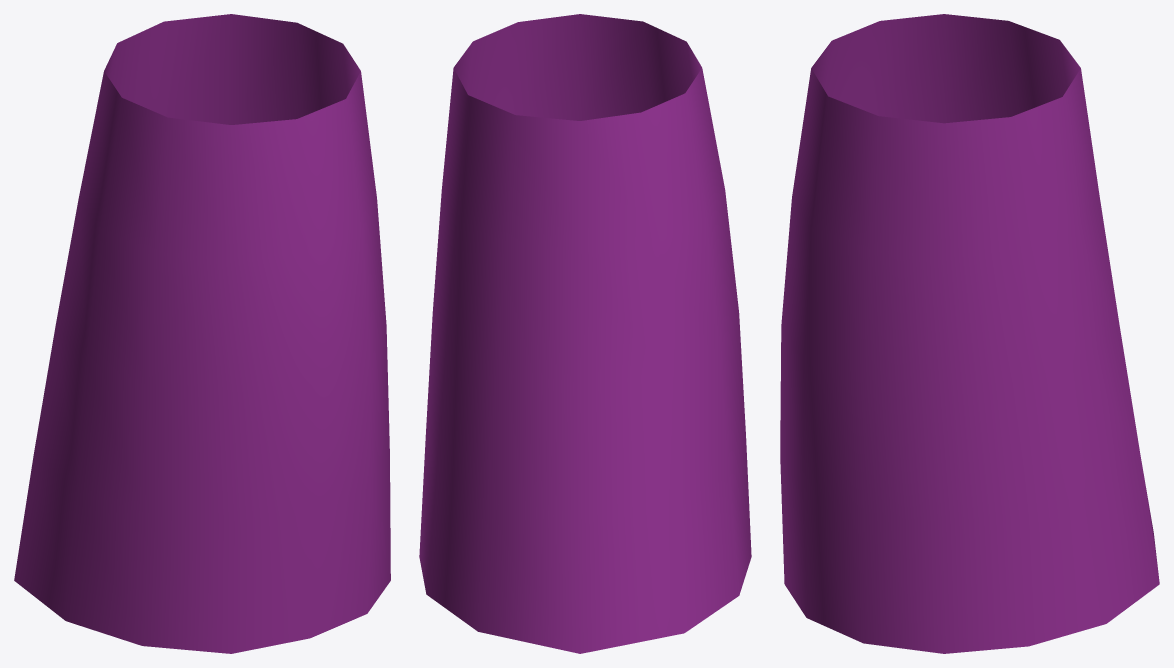
Rendered from nebula_armor_cuisse.R.glb.
3 renders of one model, left to right at view 1: azimuth 30°, elevation 25°; view 2: azimuth 150°, elevation 25°; view 3: azimuth 270°, elevation 25°, orthographic. The views are drawn at different scales.
Parts seen in each view (by area): view 1: nebula_armor_cuisse.R; view 2: nebula_armor_cuisse.R; view 3: nebula_armor_cuisse.R.
Boxes of the visible parts, x1,y1,x2,y2 form: nebula_armor_cuisse.R: [14, 14, 390, 653]; nebula_armor_cuisse.R: [419, 14, 751, 653]; nebula_armor_cuisse.R: [780, 14, 1159, 653].
Bounding box in the file's own units: 0.2329 × 0.37 × 0.2466.
